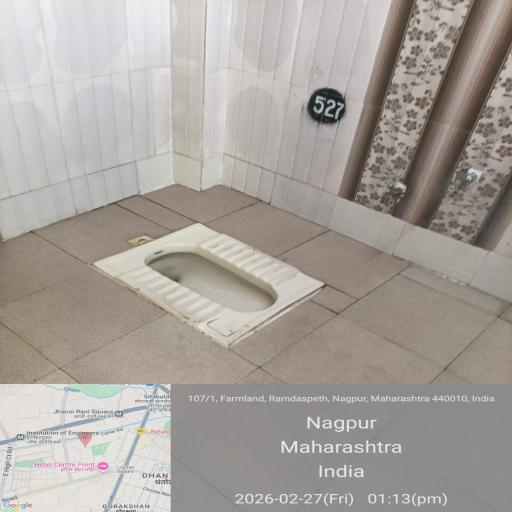clean_floor: (0, 13, 512, 192)
partial_dirty_floor: (0, 202, 497, 380)
partial_dirty_indian: (98, 230, 320, 344)
